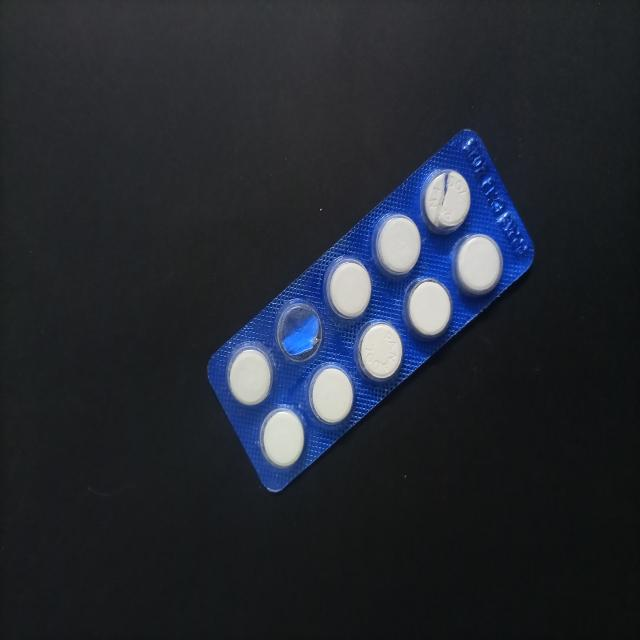defect: (421, 168, 472, 236), (275, 296, 325, 365)
